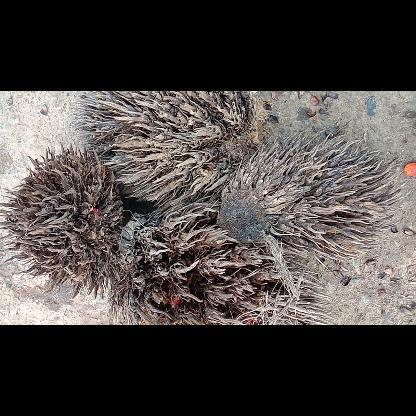Janjang kosong: (109, 196, 335, 324), (217, 131, 401, 268), (76, 90, 272, 212), (0, 142, 122, 298)
